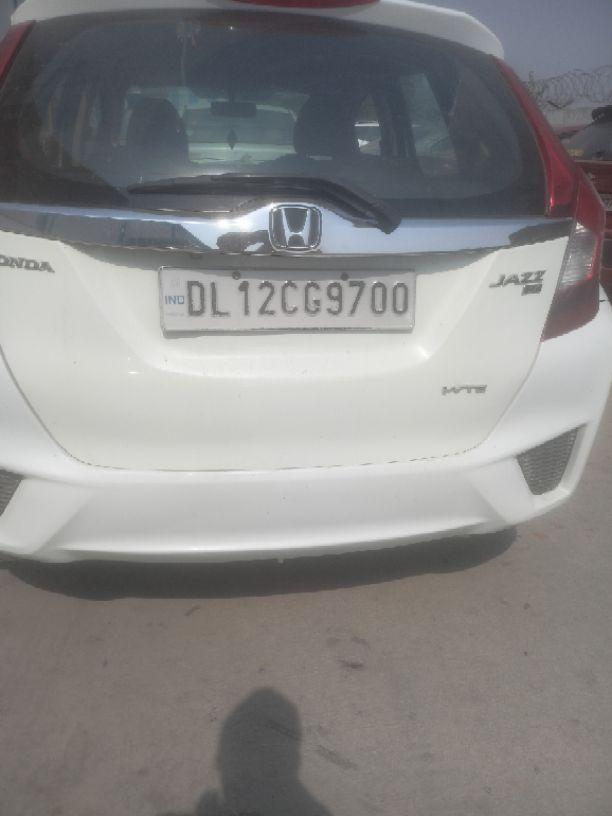license_plate: (156, 264, 417, 335)
